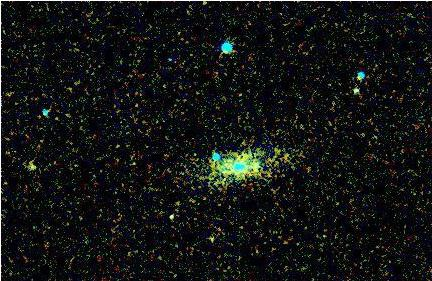star: (240, 153, 270, 183)
